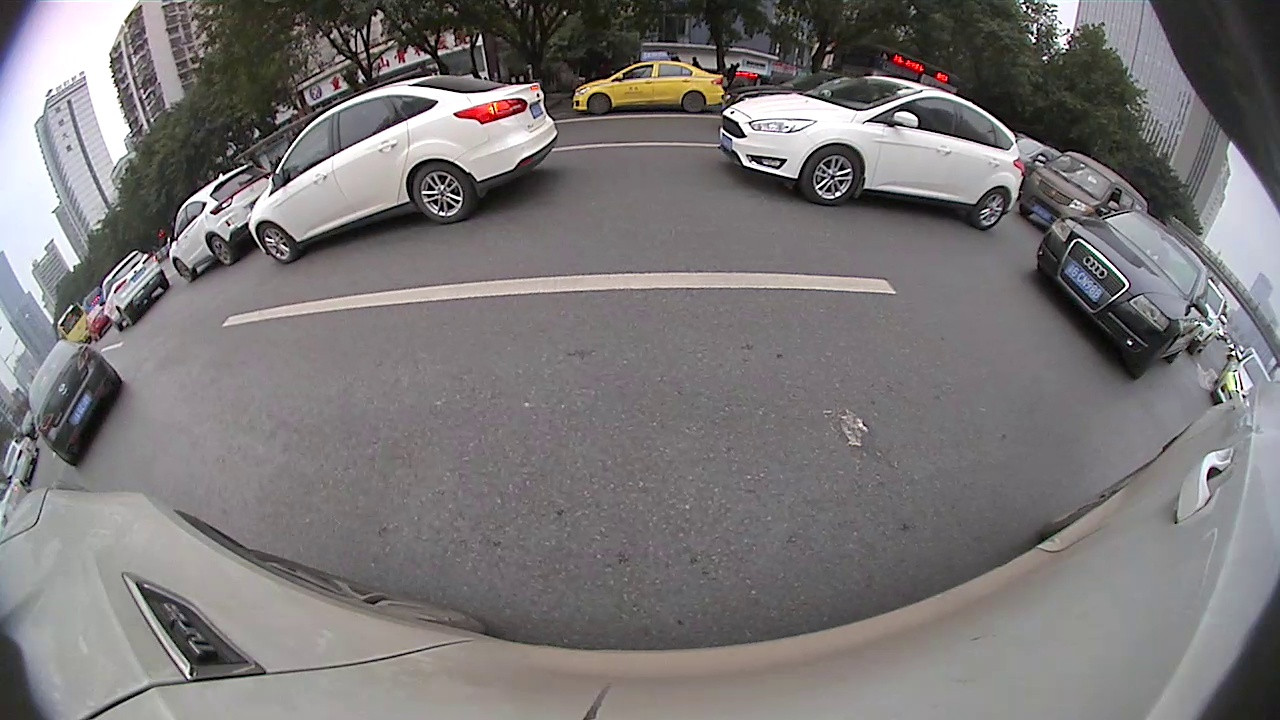car: (247, 74, 557, 265), (717, 73, 1027, 232), (1038, 206, 1210, 378), (166, 162, 274, 285), (29, 336, 123, 467), (1021, 151, 1148, 232), (572, 58, 726, 115), (99, 247, 172, 332), (3, 437, 39, 486)
front: (803, 143, 862, 207), (259, 221, 298, 264), (588, 93, 611, 115), (175, 260, 193, 282)
rear: (414, 159, 473, 224), (978, 184, 1008, 232), (210, 236, 233, 267), (682, 92, 704, 112)
